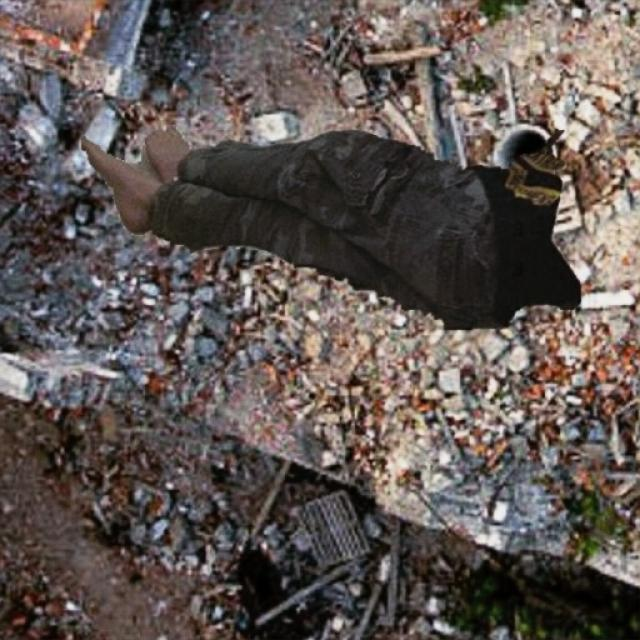Person in Rubble: (81, 125, 580, 329)
